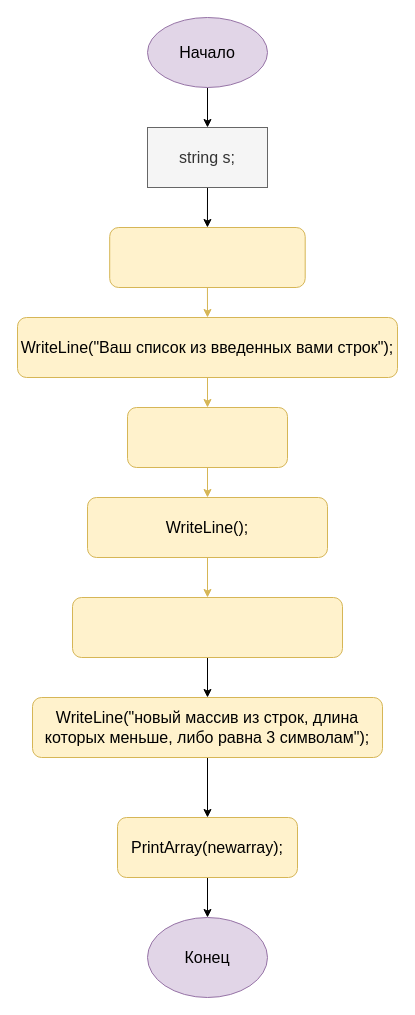
The diagram is 415 pixels wide and 1015 high, and some of its shapes have lost their labels. The centre of each missing label's shape, as x and y in pixels:
"PrintArray(array)" belongs at (207,437).
"string[] array = Array(s);" belongs at (207,257).
"string[] newarray = NewArray(array);" belongs at (207,627).
